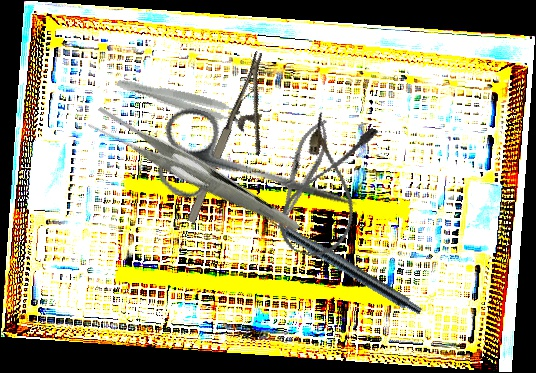Cannula: (271, 109, 384, 266)
Dressing Forceps: (85, 63, 300, 285)
Handpiece: (252, 204, 427, 319)
Iris Scissors: (148, 102, 371, 244)
Needle Holder: (181, 50, 298, 237), (265, 113, 337, 236)
Tissue Forceps: (114, 74, 249, 131)
